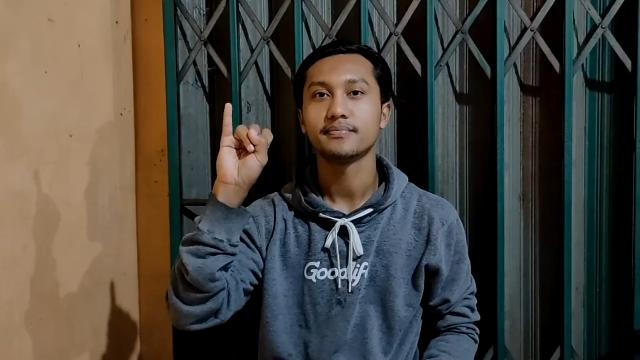I: (214, 102, 280, 204)
